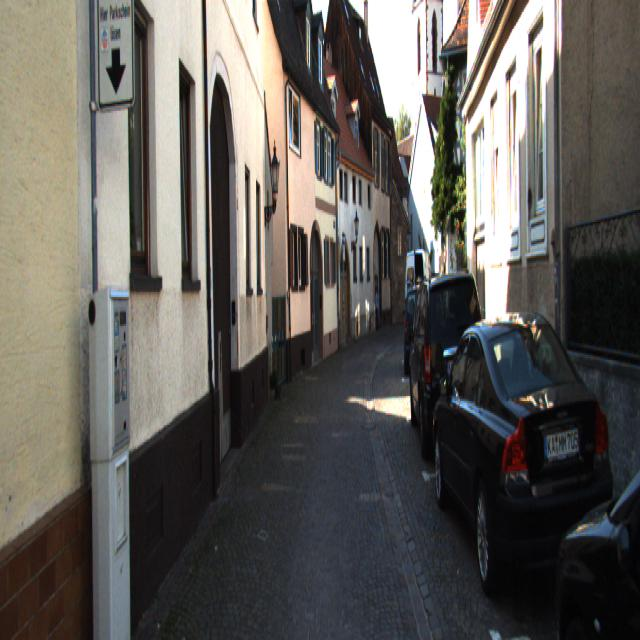Car: (431, 302, 614, 638), (407, 259, 487, 465), (405, 247, 436, 342), (403, 285, 431, 377)
